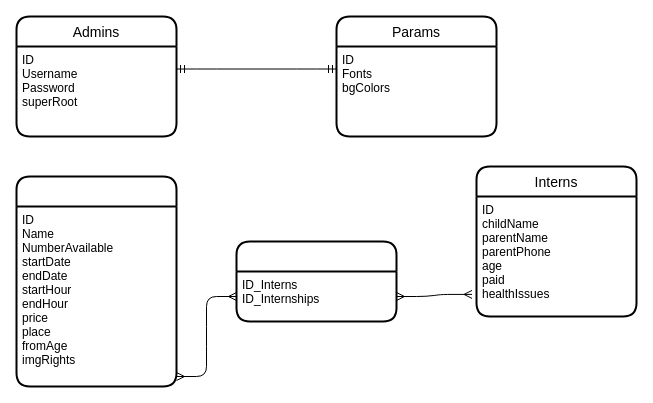
This 653x403 diagram has some shape labels left out. Each missing label, with the box of its shape:
Intern_Internships: (235, 240, 397, 322)
Internships: (15, 175, 177, 387)
